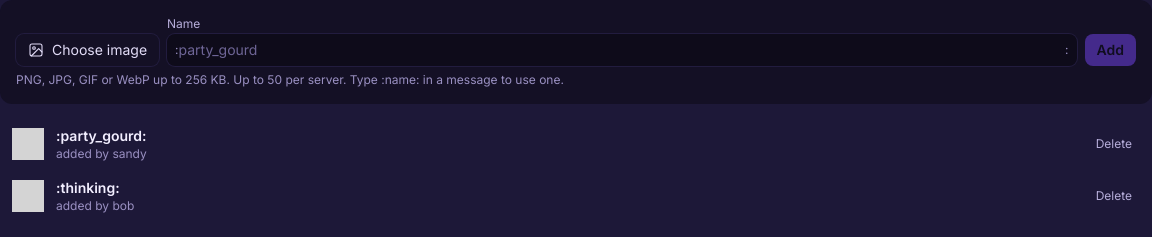
lists the emoji with who added them, and Delete removes one
Expected: the number of list items is 2, top-left (0, 120), bottom-right (1151, 168); top-left (0, 172), bottom-right (1151, 220)
Expected: the list item ":party_gourd: added by sandy Delete" is shown, top-left (0, 120), bottom-right (1151, 168)
Click the button with aria-label "Delete :thinking:".
click(1114, 196)  # box top-left (1088, 184), bottom-right (1140, 208)
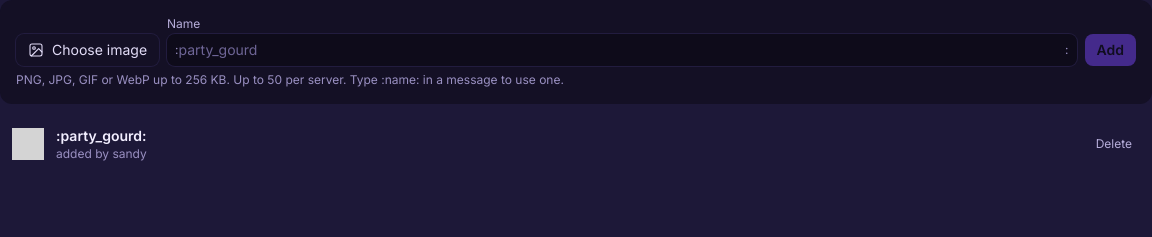
Expected: the number of list items is 1, top-left (0, 120), bottom-right (1151, 168)
